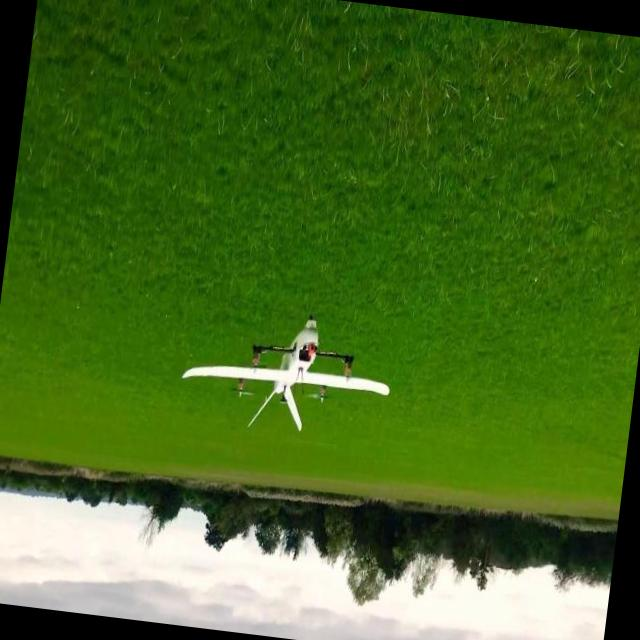UAV: (193, 306, 376, 444)
